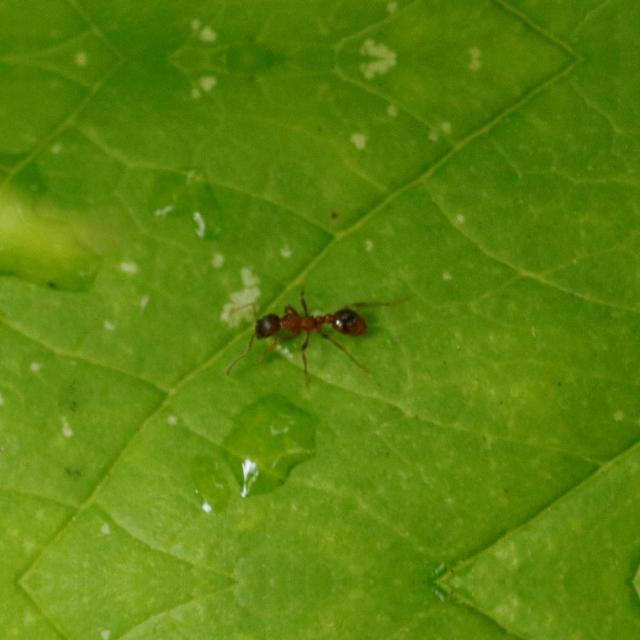Myrmica: (218, 274, 390, 374)
